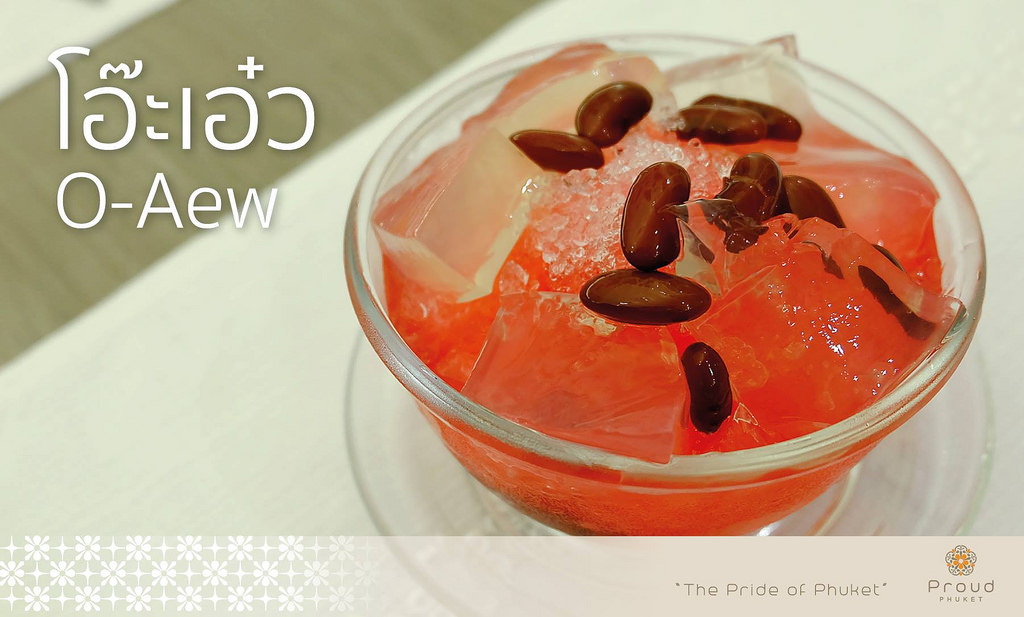O-eo: (339, 32, 996, 533)
